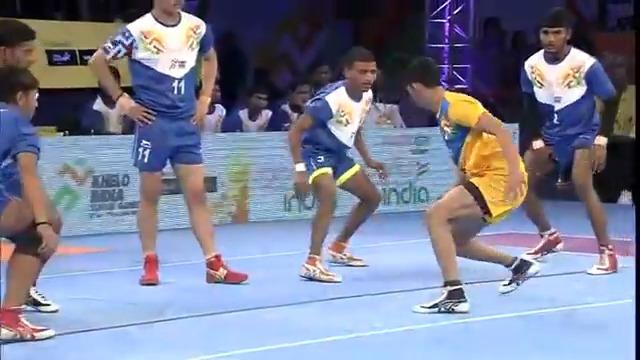Player: (87, 0, 249, 286), (517, 7, 619, 275), (287, 45, 387, 283), (0, 64, 62, 341)
Raider: (398, 55, 540, 314)
